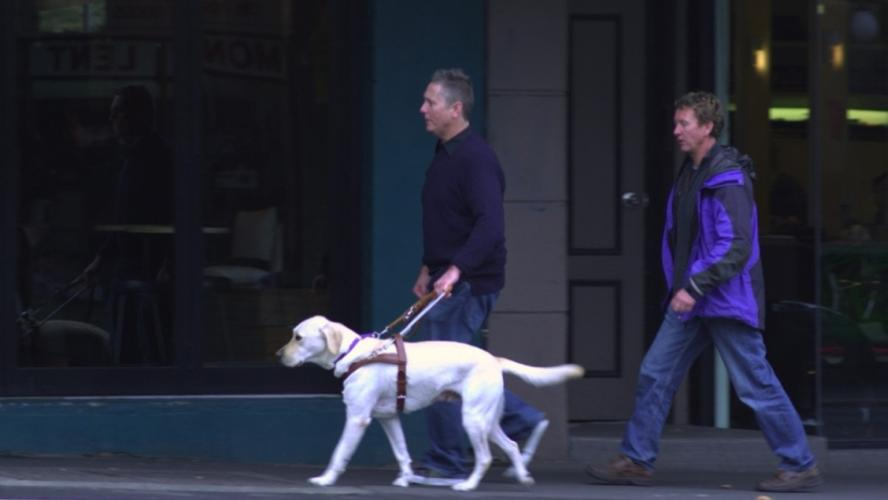person: (409, 64, 549, 482)
